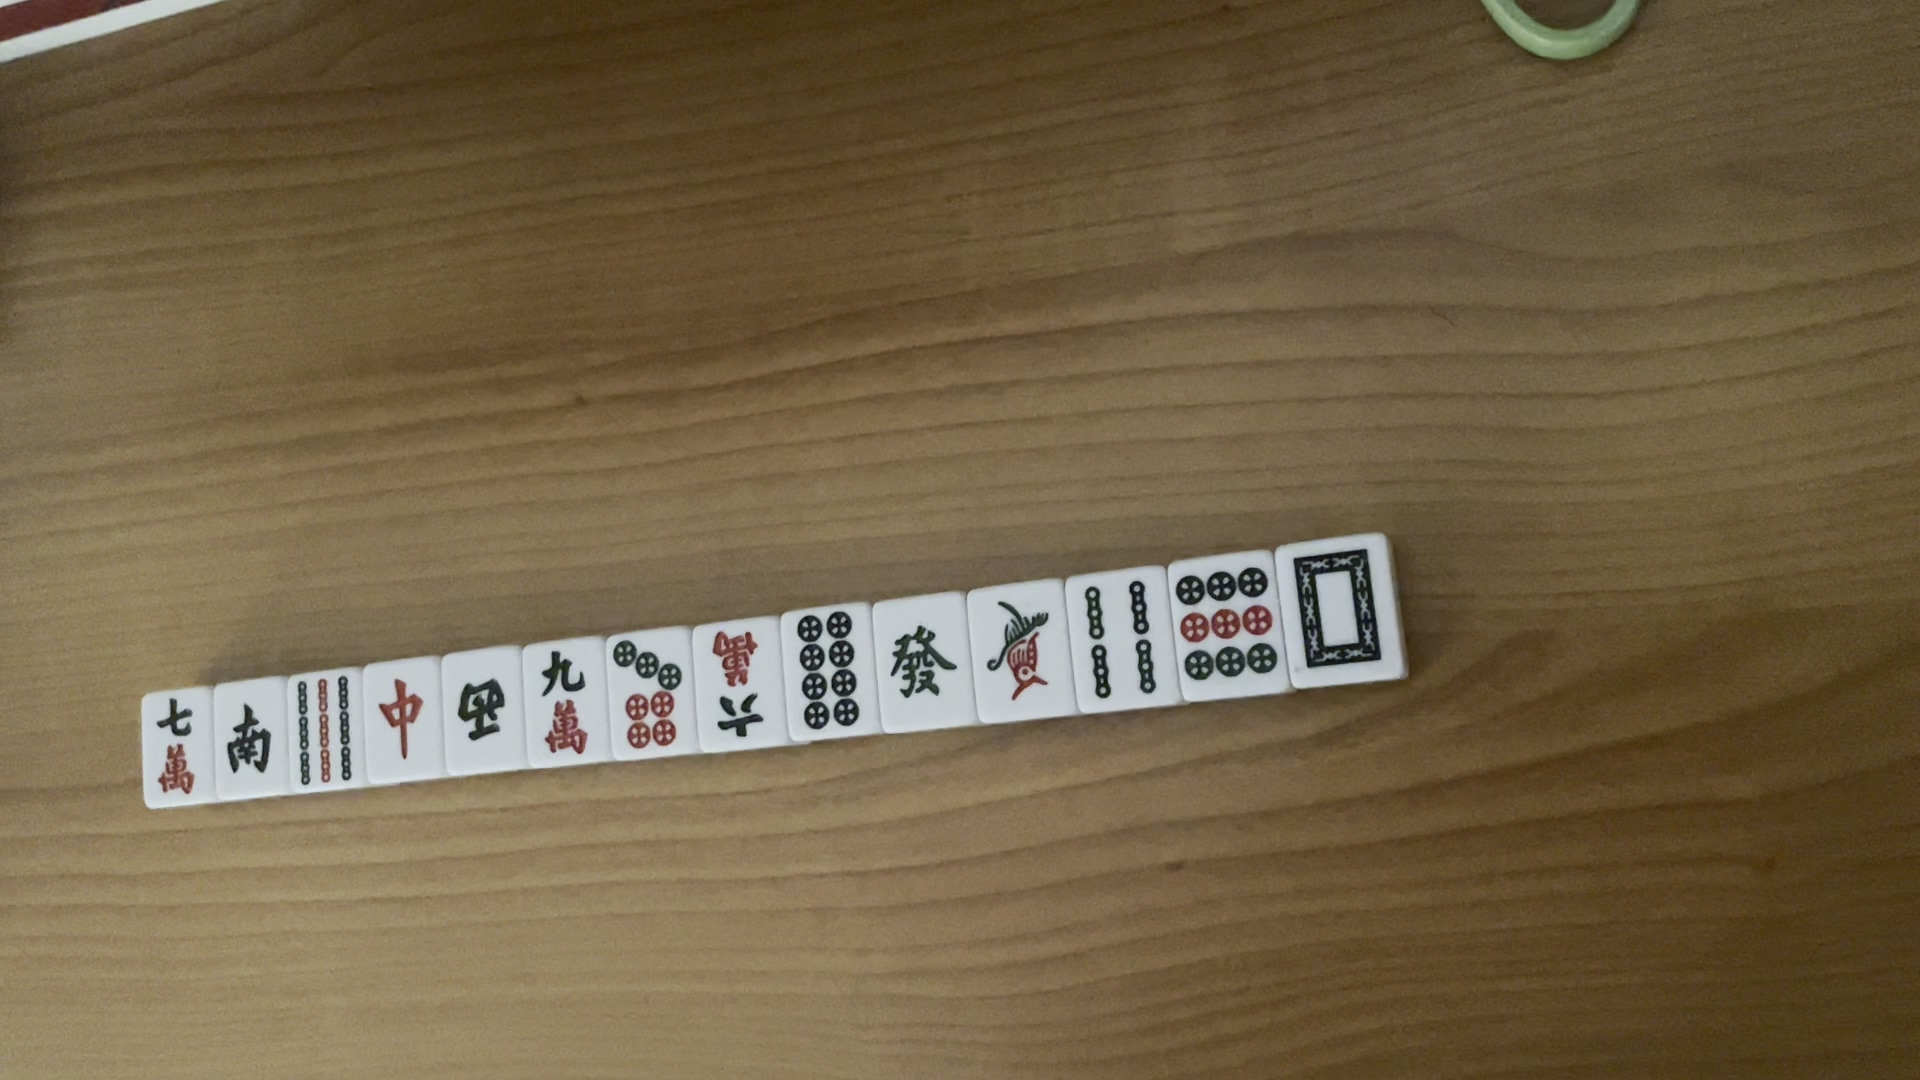b-1: (978, 585, 1067, 715)
b-4: (1080, 576, 1174, 712)
b-9: (290, 675, 360, 789)
c-6: (700, 622, 775, 746)
c-7: (146, 699, 204, 798)
c-9: (541, 647, 596, 760)
d-7: (607, 636, 684, 753)
d-8: (796, 608, 864, 727)
d-9: (1176, 563, 1286, 691)
honors-green: (884, 615, 957, 711)
honors-red: (377, 667, 429, 764)
honors-south: (218, 696, 278, 785)
honors-west: (455, 673, 506, 744)
honors-white: (1288, 541, 1396, 675)
